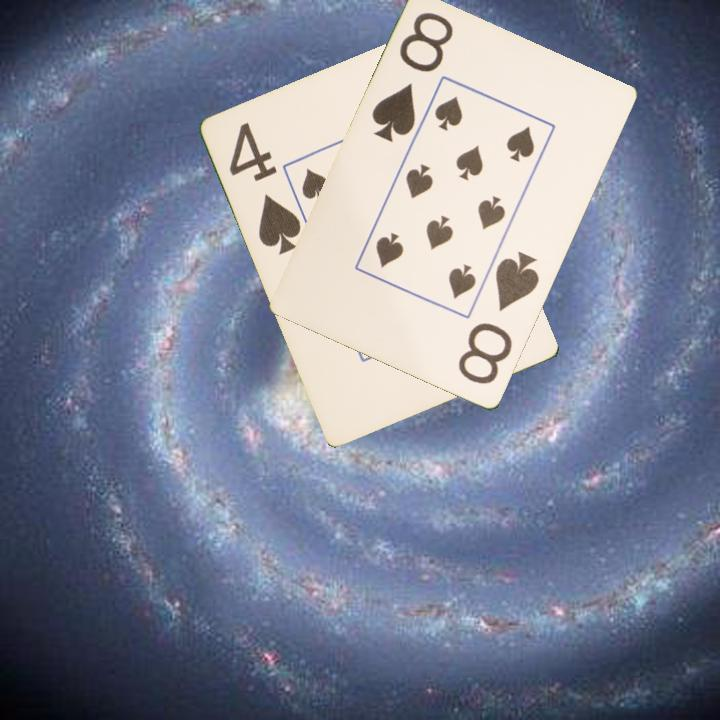4s: (225, 119, 305, 258)
8s: (454, 248, 543, 388), (368, 9, 457, 146)
